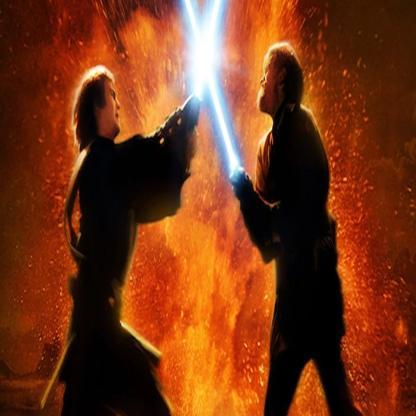lightsaber: (184, 0, 254, 201), (181, 0, 230, 131)
